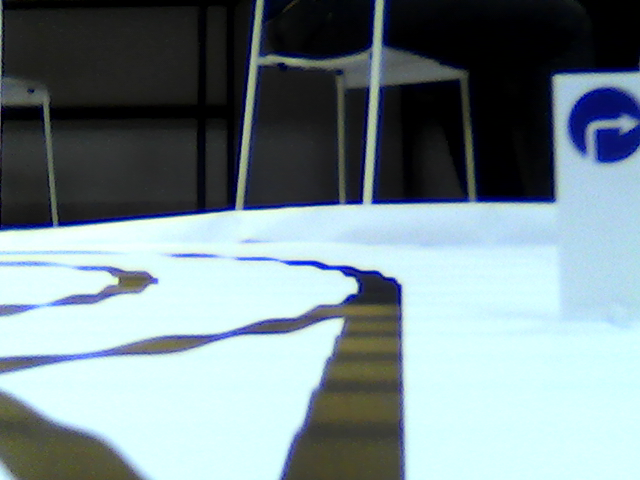Right: (566, 84, 640, 166)
